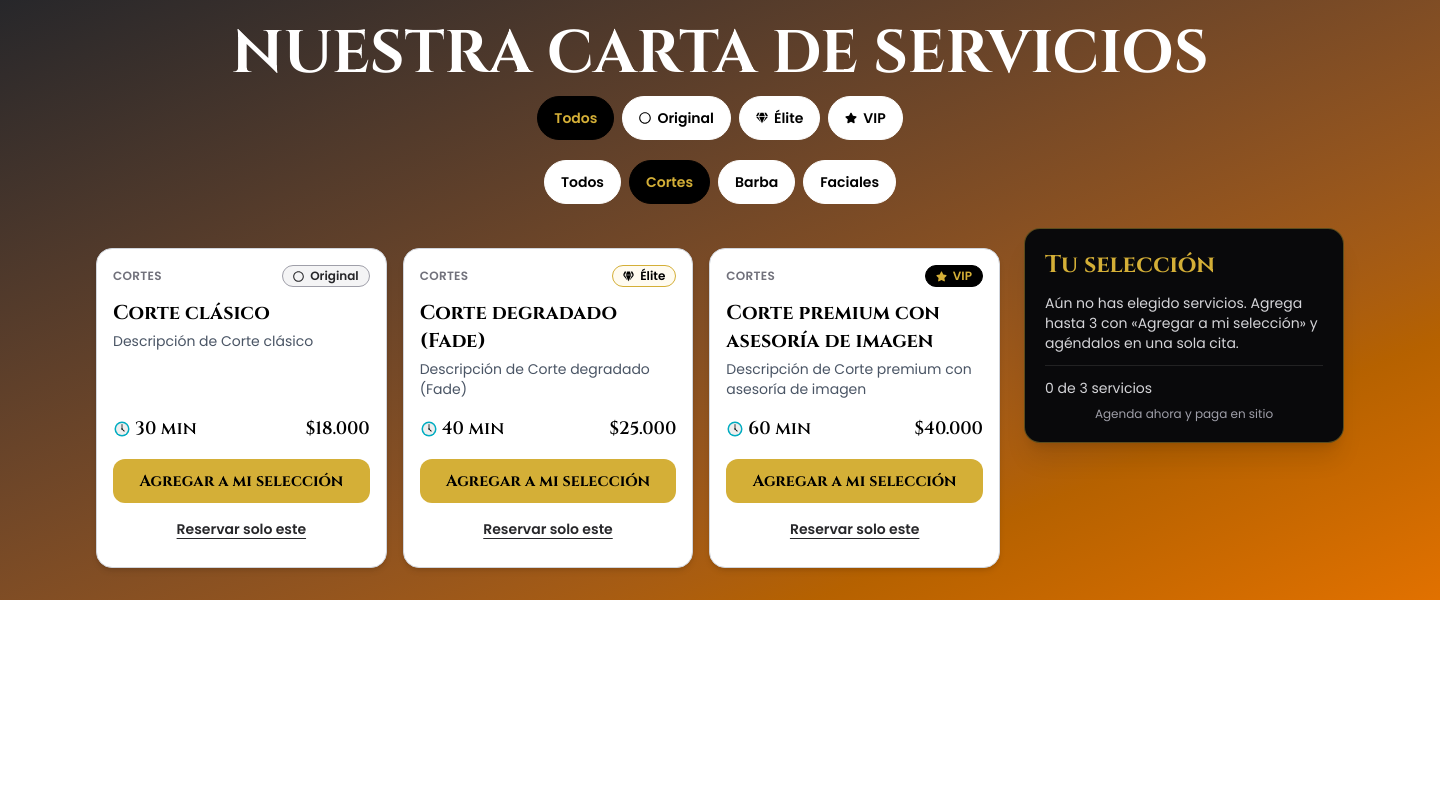
CatalogoServicios › sin resultados muestra el aviso y "Limpiar filtros" restablece la vista
expect the element named "Filtrar servicios" is shown: met, box [537,96,903,204]
Click the button "Faciales" at {"x": 850, "y": 182}, box [803,160,896,204]
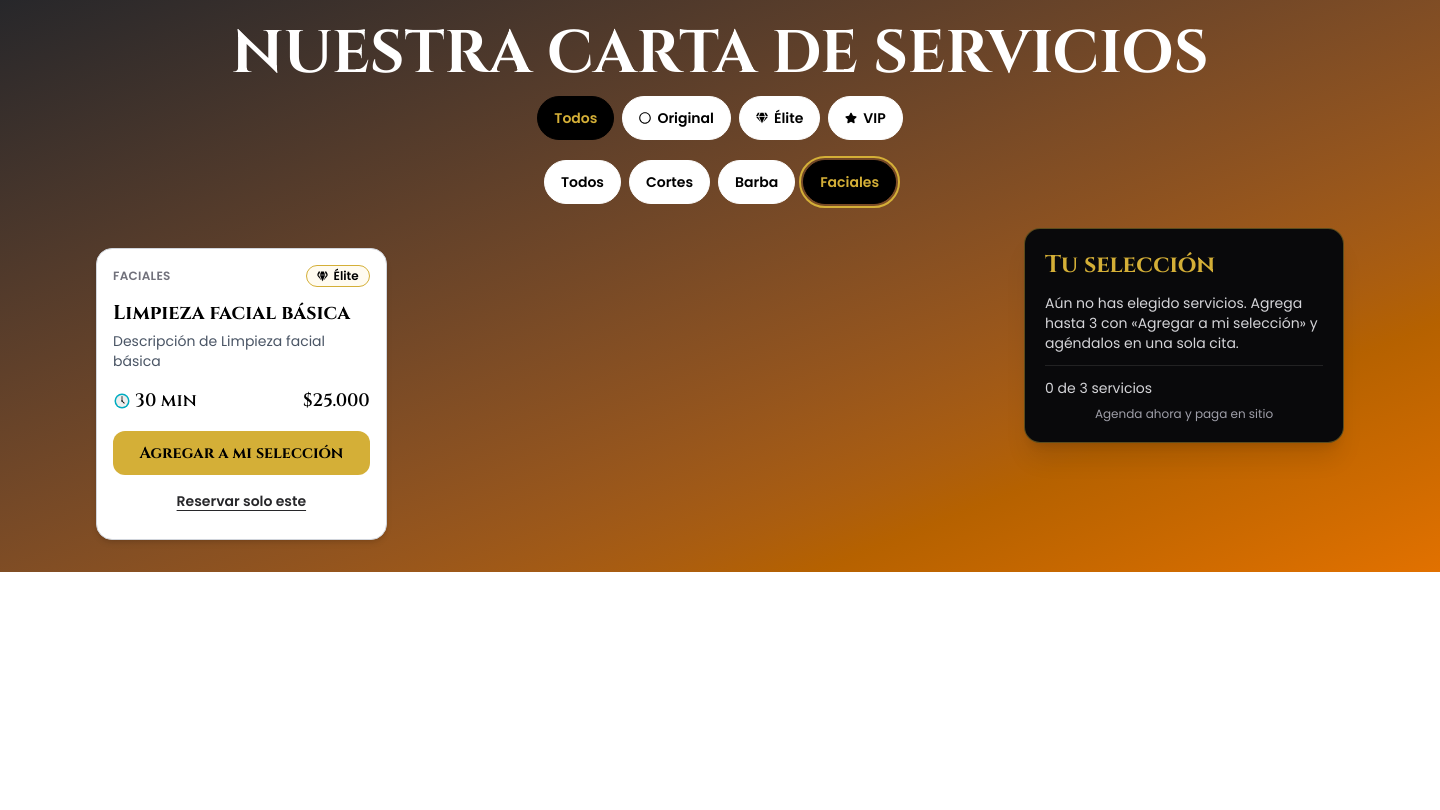
Click the button "VIP" at {"x": 866, "y": 118}, box [828,96,903,140]
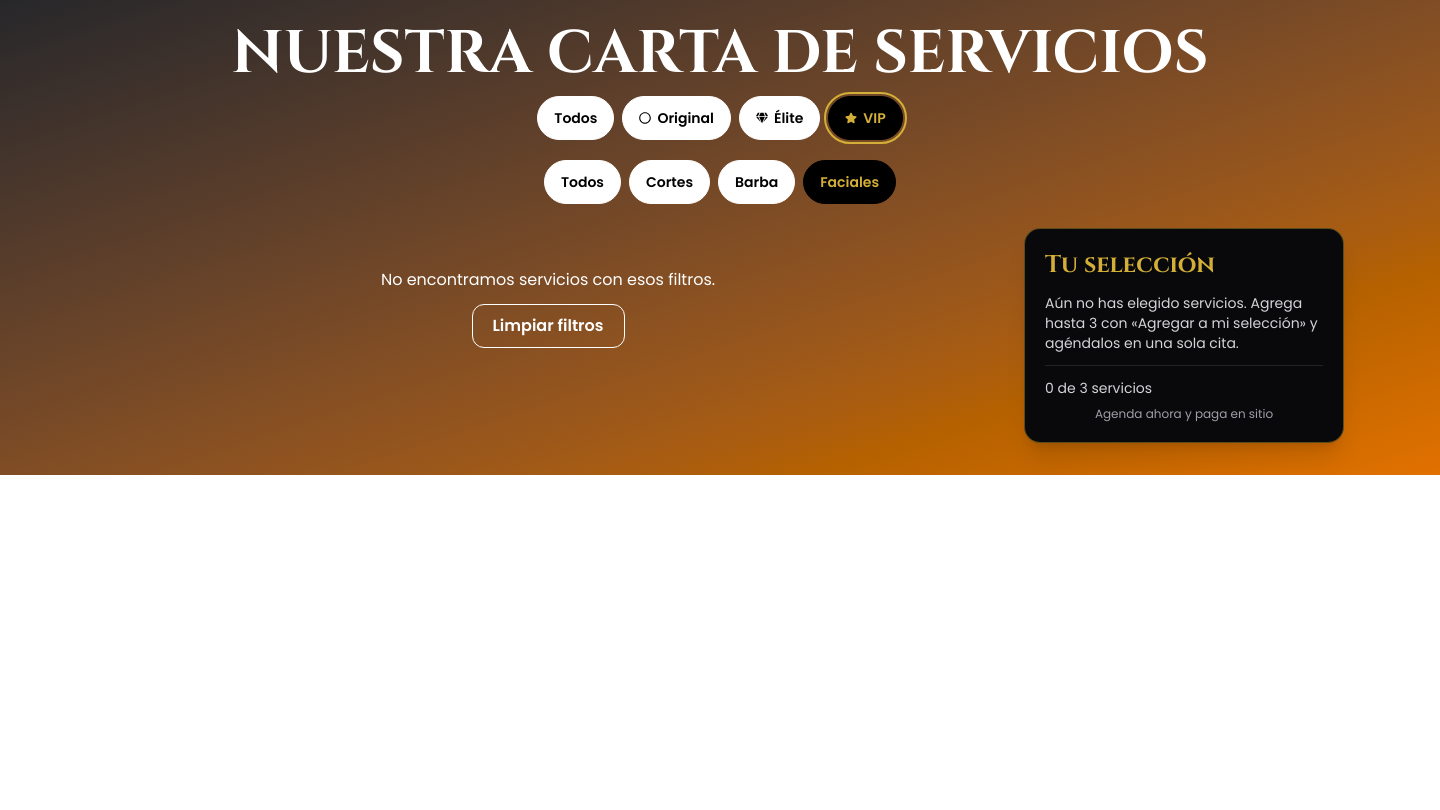
expect the text "No encontramos servicios con esos filtros." is shown: met, box [381,268,715,292]
Click the button "Limpiar filtros" at {"x": 548, "y": 326}, box [472,304,624,348]
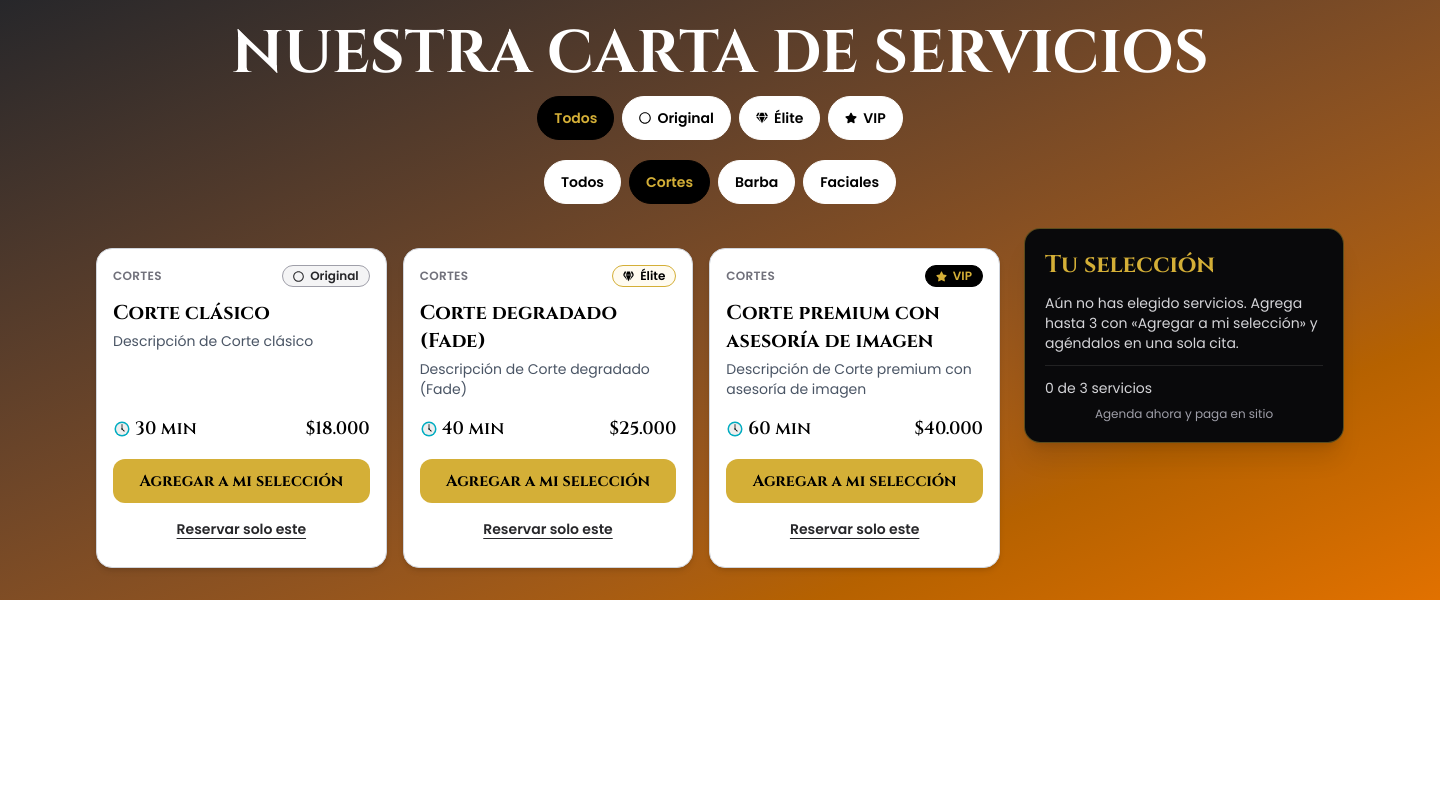
expect the text "No encontramos servicios" is gone: met
